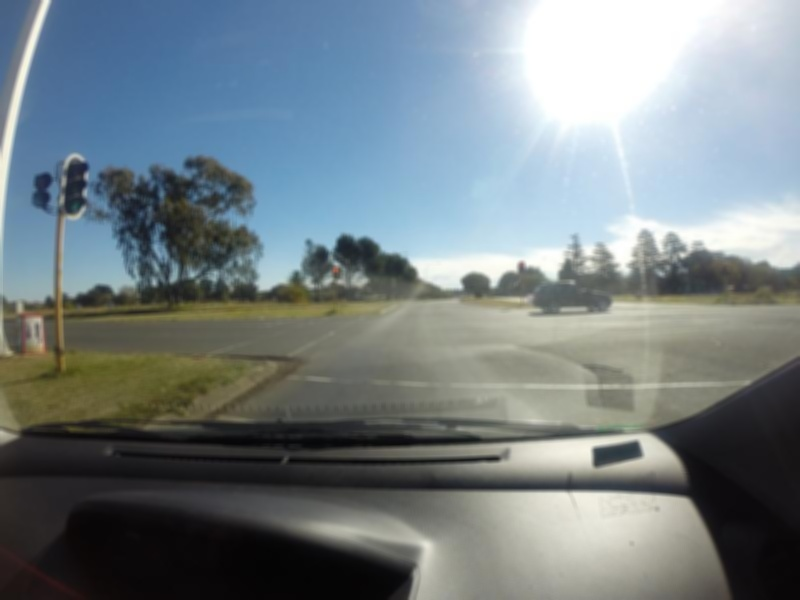pothole: (580, 353, 648, 390)
